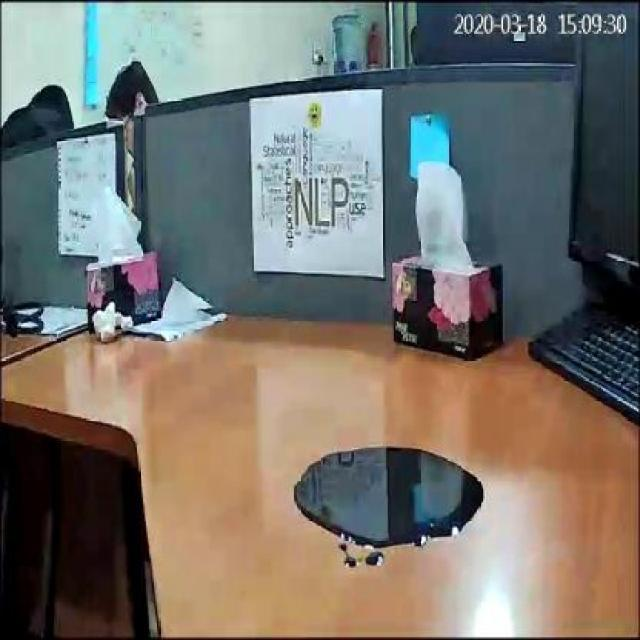spill: (290, 448, 488, 552)
